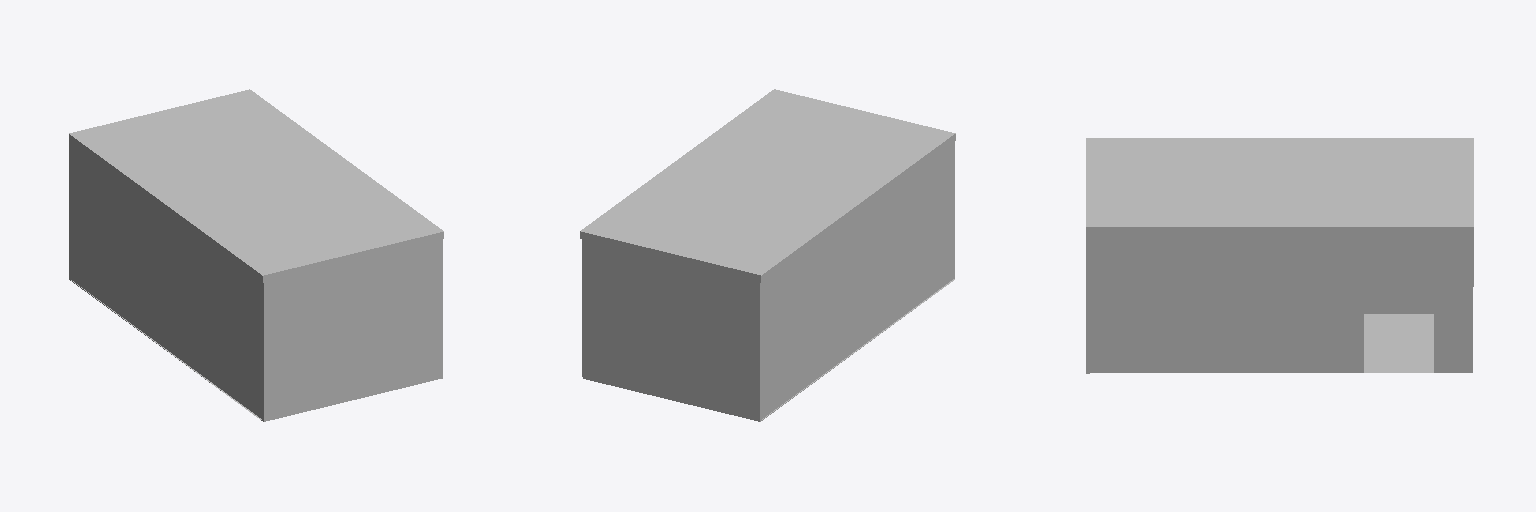
Rendered from zona_tienda.obj.
3 views of the same model, side by side, from view 1: azimuth 30°, elevation 25°; view 2: azimuth 150°, elevation 25°; view 3: azimuth 270°, elevation 25° (orthographic).
Visible parts, largest first — view 1: group10 group9 group8 pCube48, group10 group9 group8 pCube65, group10 group9 group8 pCube61; view 2: group10 group9 group8 pCube48, group10 group9 group8 pCube65, group10 group9 group8 pCube64, pCube54 group10 group9 group8; view 3: group10 group9 group8 pCube56, group10 group9 group8 pCube48, group10 group9 group8 polySurface55pasted__pCube18group1.
Boxes of the visible parts, box(x1,y1,x2,y2) form: group10 group9 group8 pCube48: box(69, 89, 443, 282); group10 group9 group8 pCube65: box(69, 142, 265, 421); group10 group9 group8 pCube61: box(266, 239, 442, 420); group10 group9 group8 pCube48: box(580, 89, 955, 282); group10 group9 group8 pCube65: box(758, 142, 954, 421); group10 group9 group8 pCube64: box(583, 242, 757, 420); pCube54 group10 group9 group8: box(582, 239, 757, 284); group10 group9 group8 pCube56: box(1087, 234, 1471, 372); group10 group9 group8 pCube48: box(1086, 138, 1473, 233); group10 group9 group8 polySurface55pasted__pCube18group1: box(1364, 314, 1433, 370).
Bounding box in the file's own units: 8.2 × 6.32 × 15.15.